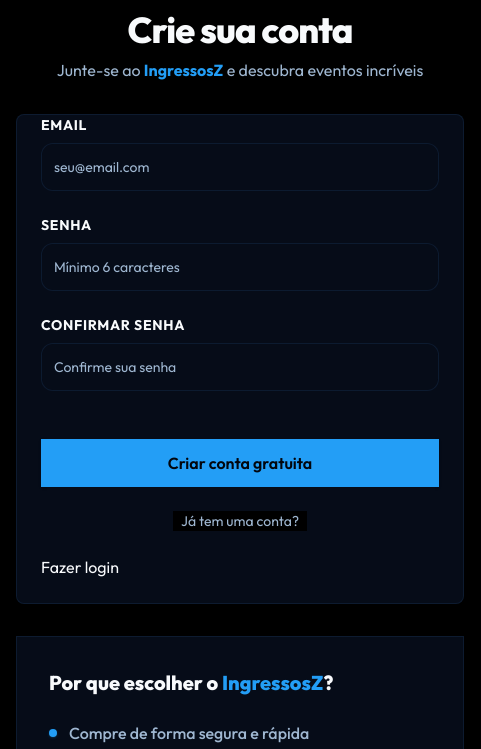
it: SignUp › validates password mismatch
In the password field labelled "Senha": (240, 267) [41,243,439,291], type "password123"
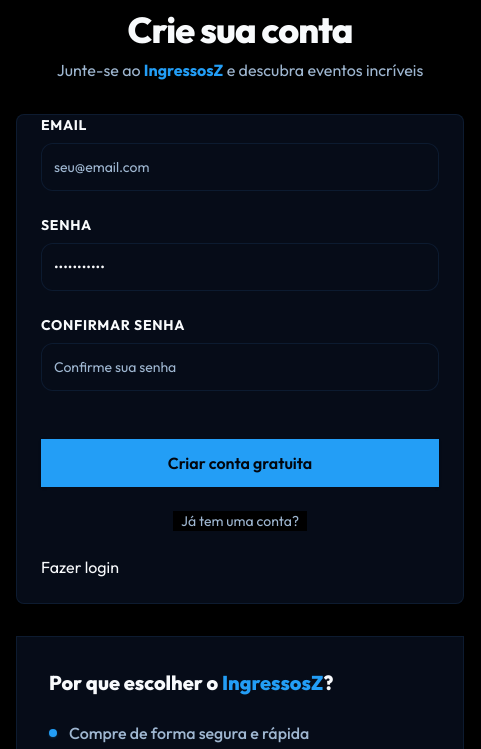
In the password field labelled "Confirmar Senha": (240, 367) [41,343,439,391], type "different"
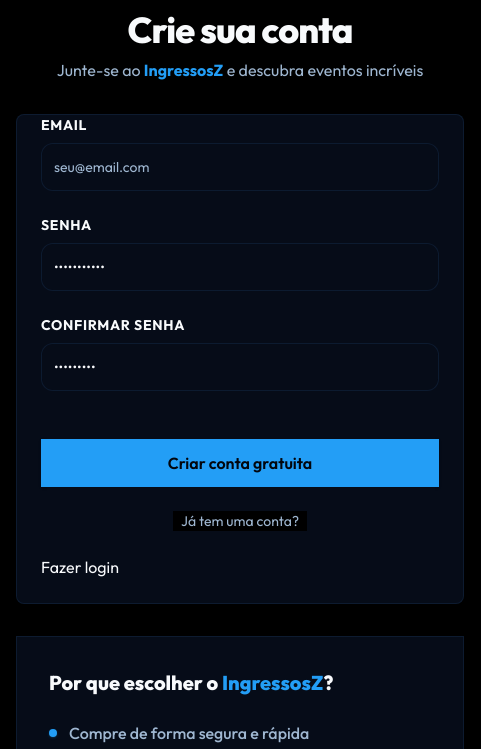
Submit the form "Email Senha Confirmar Senha Criar conta gratuita", box [41,115,439,487]
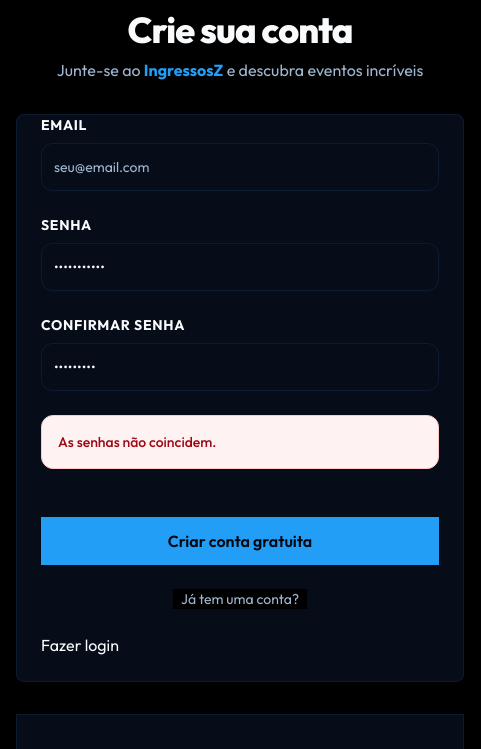
Expected: the text "As senhas não coincidem." is shown, [58,433,216,451]
